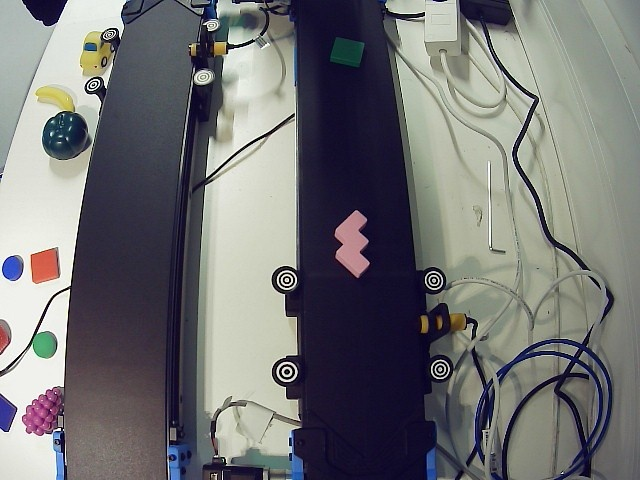Green_Square: (323, 35, 372, 68)
Unknown: (332, 206, 376, 279)
